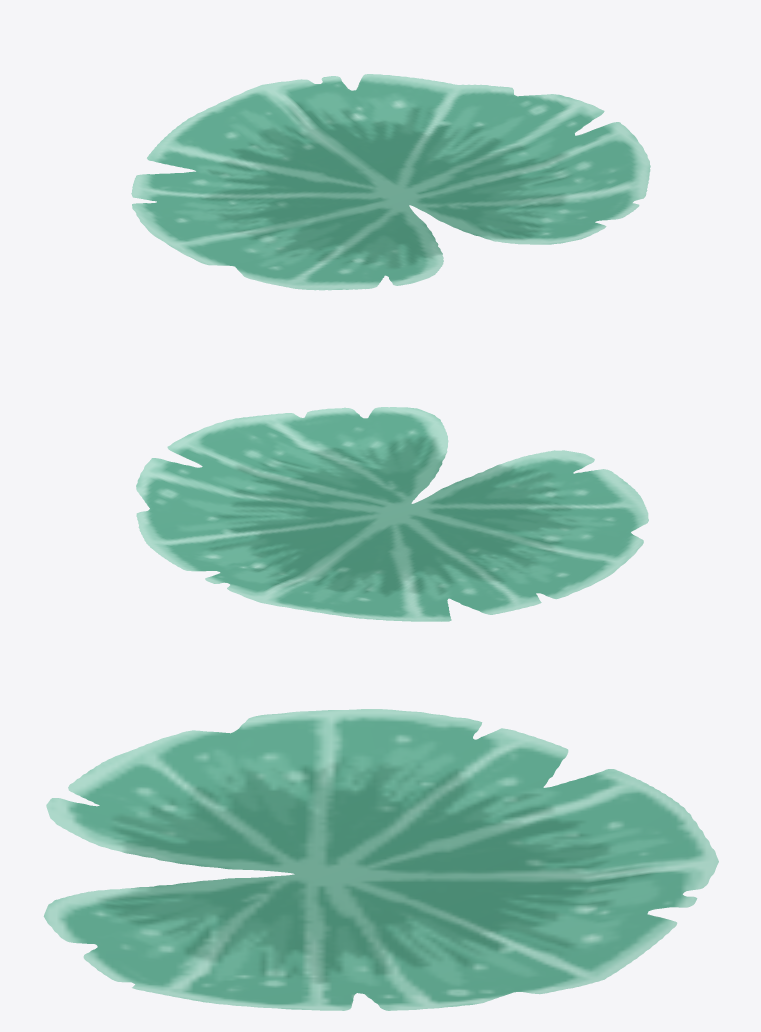
Rendered from SM_ENV_flower_ancient_07_02.fbx.
3 renders of one model, top to bottom at view 1: azimuth 30°, elevation 25°; view 2: azimuth 150°, elevation 25°; view 3: azimuth 270°, elevation 25°, orthographic. The views are drawn at different scales.
Visible parts, largest first — view 1: SM_ENV_flower_ancient_07_02_LOD0; view 2: SM_ENV_flower_ancient_07_02_LOD0; view 3: SM_ENV_flower_ancient_07_02_LOD0.
Part boxes in pixels (x1,y1,x2,y2): SM_ENV_flower_ancient_07_02_LOD0: (131, 74, 650, 290); SM_ENV_flower_ancient_07_02_LOD0: (136, 407, 648, 621); SM_ENV_flower_ancient_07_02_LOD0: (43, 709, 718, 1010).
Size of the model in its own units: 52.87 by 1.75 by 49.24.
